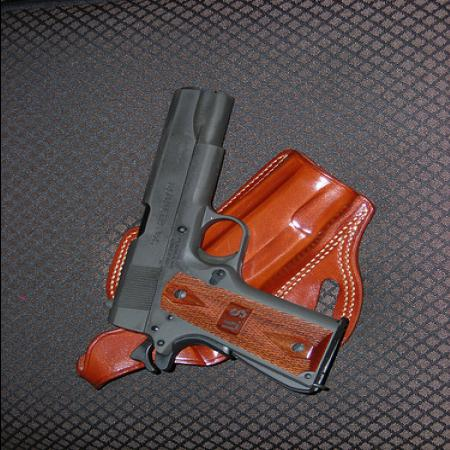Pistol: (101, 86, 342, 400)
